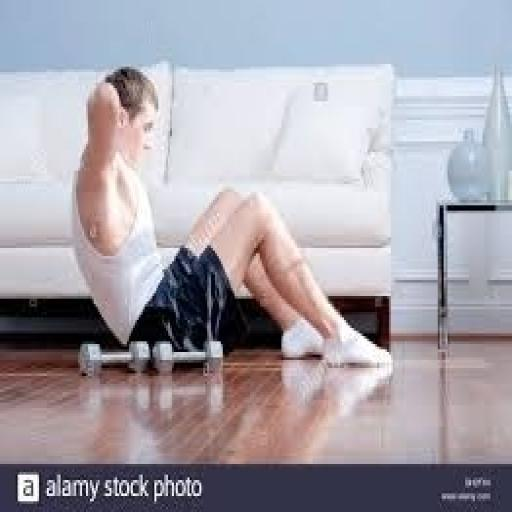sitting: (68, 62, 395, 374)
